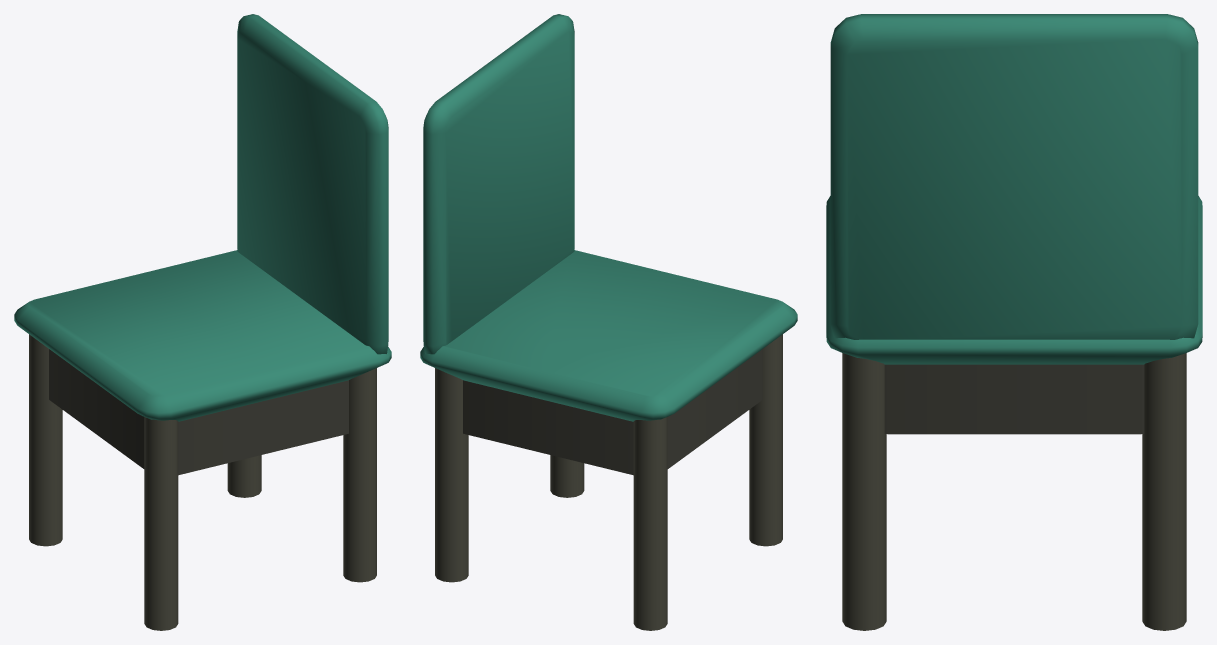
File: EM_128_129_130_131_chair.glb
3 views of the same model, side by side, from view 1: azimuth 30°, elevation 25°; view 2: azimuth 150°, elevation 25°; view 3: azimuth 270°, elevation 25° (orthographic). The views are drawn at different scales.
Visible parts, largest first — view 1: bench, back, legs; view 2: bench, back, legs; view 3: back, bench, legs.
Boxes of the visible parts, x1,y1,x2,y2 form: bench: (14,250,391,475); back: (237,14,388,354); legs: (29,334,376,630); bench: (420,250,797,475); back: (423,14,574,354); legs: (435,334,782,630); back: (830,14,1198,339); bench: (826,196,1202,434); legs: (842,353,1186,630).
Size of the model in its own units: 0.75 by 1.35 by 0.7509.
